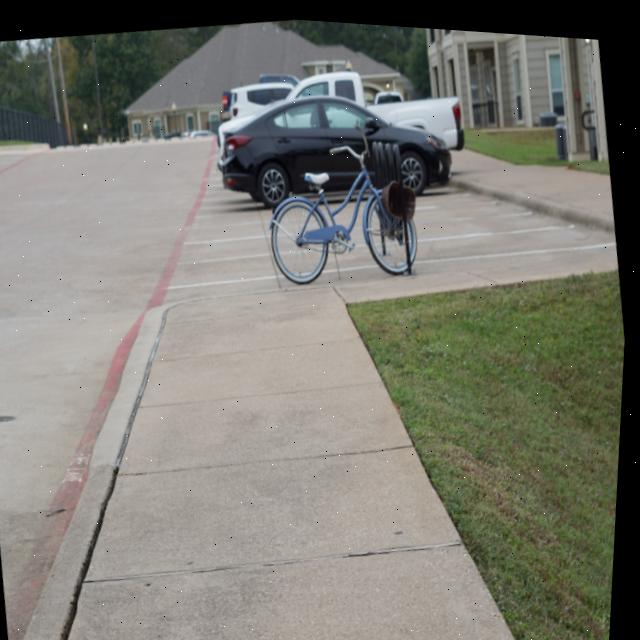Automobile: (220, 92, 373, 204), (366, 110, 452, 189), (368, 87, 465, 143), (288, 65, 366, 102), (231, 79, 293, 115)
Obstacle: (271, 141, 418, 279)
Road: (0, 130, 265, 640), (421, 181, 616, 261)
Sidewalk: (35, 242, 621, 640), (452, 145, 617, 222)
